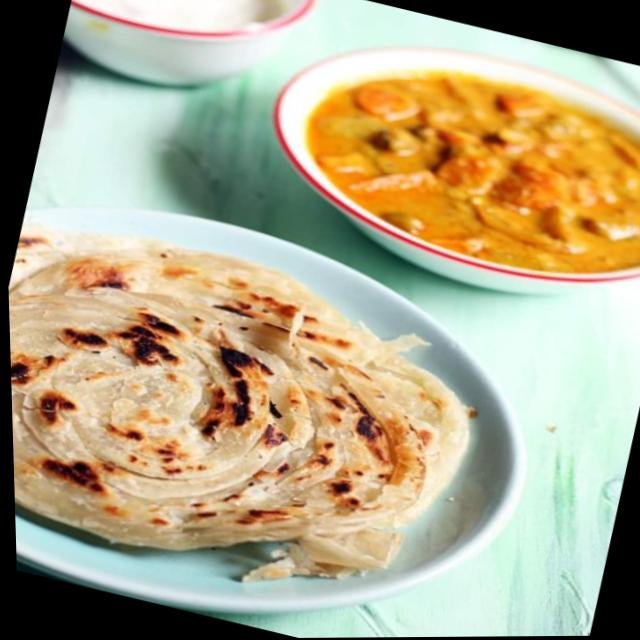CURD: (82, 0, 298, 29)
CURRY: (305, 66, 640, 270)
PAROTTA: (9, 226, 478, 581)
